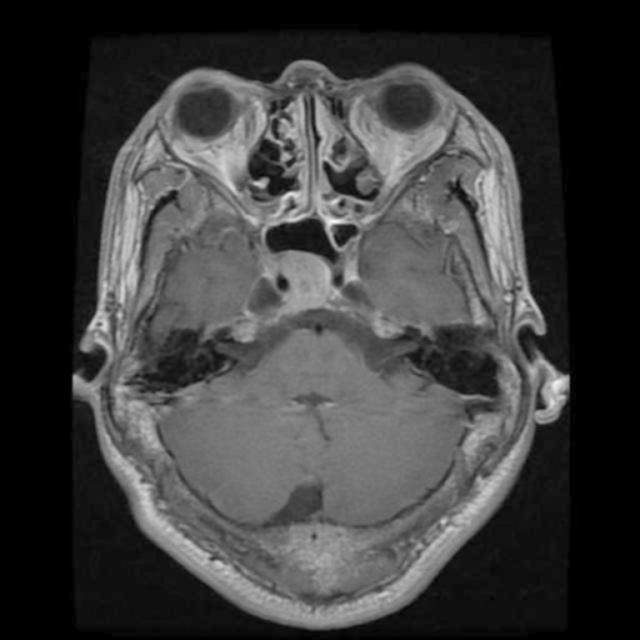no tumor: (264, 245, 335, 306)
